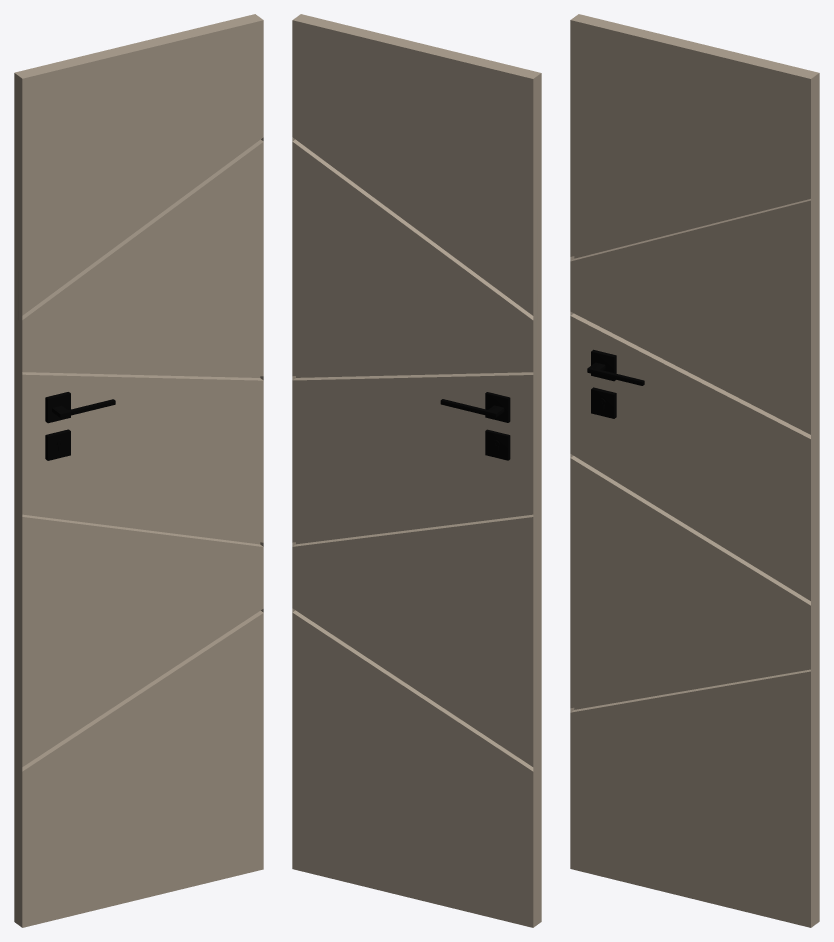
Rendered from RP_3_full1_door.glb.
The picture shows the model from 3 angles, left to right: view 1: azimuth 30°, elevation 25°; view 2: azimuth 150°, elevation 25°; view 3: azimuth 330°, elevation 25°; orthographic projection.
Parts seen in each view (by area): view 1: RP_3__1_door_; view 2: RP_3__1_door_; view 3: RP_3__1_door_.
Boxes of the visible parts, box(x1,y1,x2,y2) form: RP_3__1_door_: box(14, 14, 263, 927); RP_3__1_door_: box(292, 14, 541, 927); RP_3__1_door_: box(570, 14, 819, 927).
Bounding box in the file's own units: 0.523 × 1.76 × 0.1089.
1 material, 1 textured.
